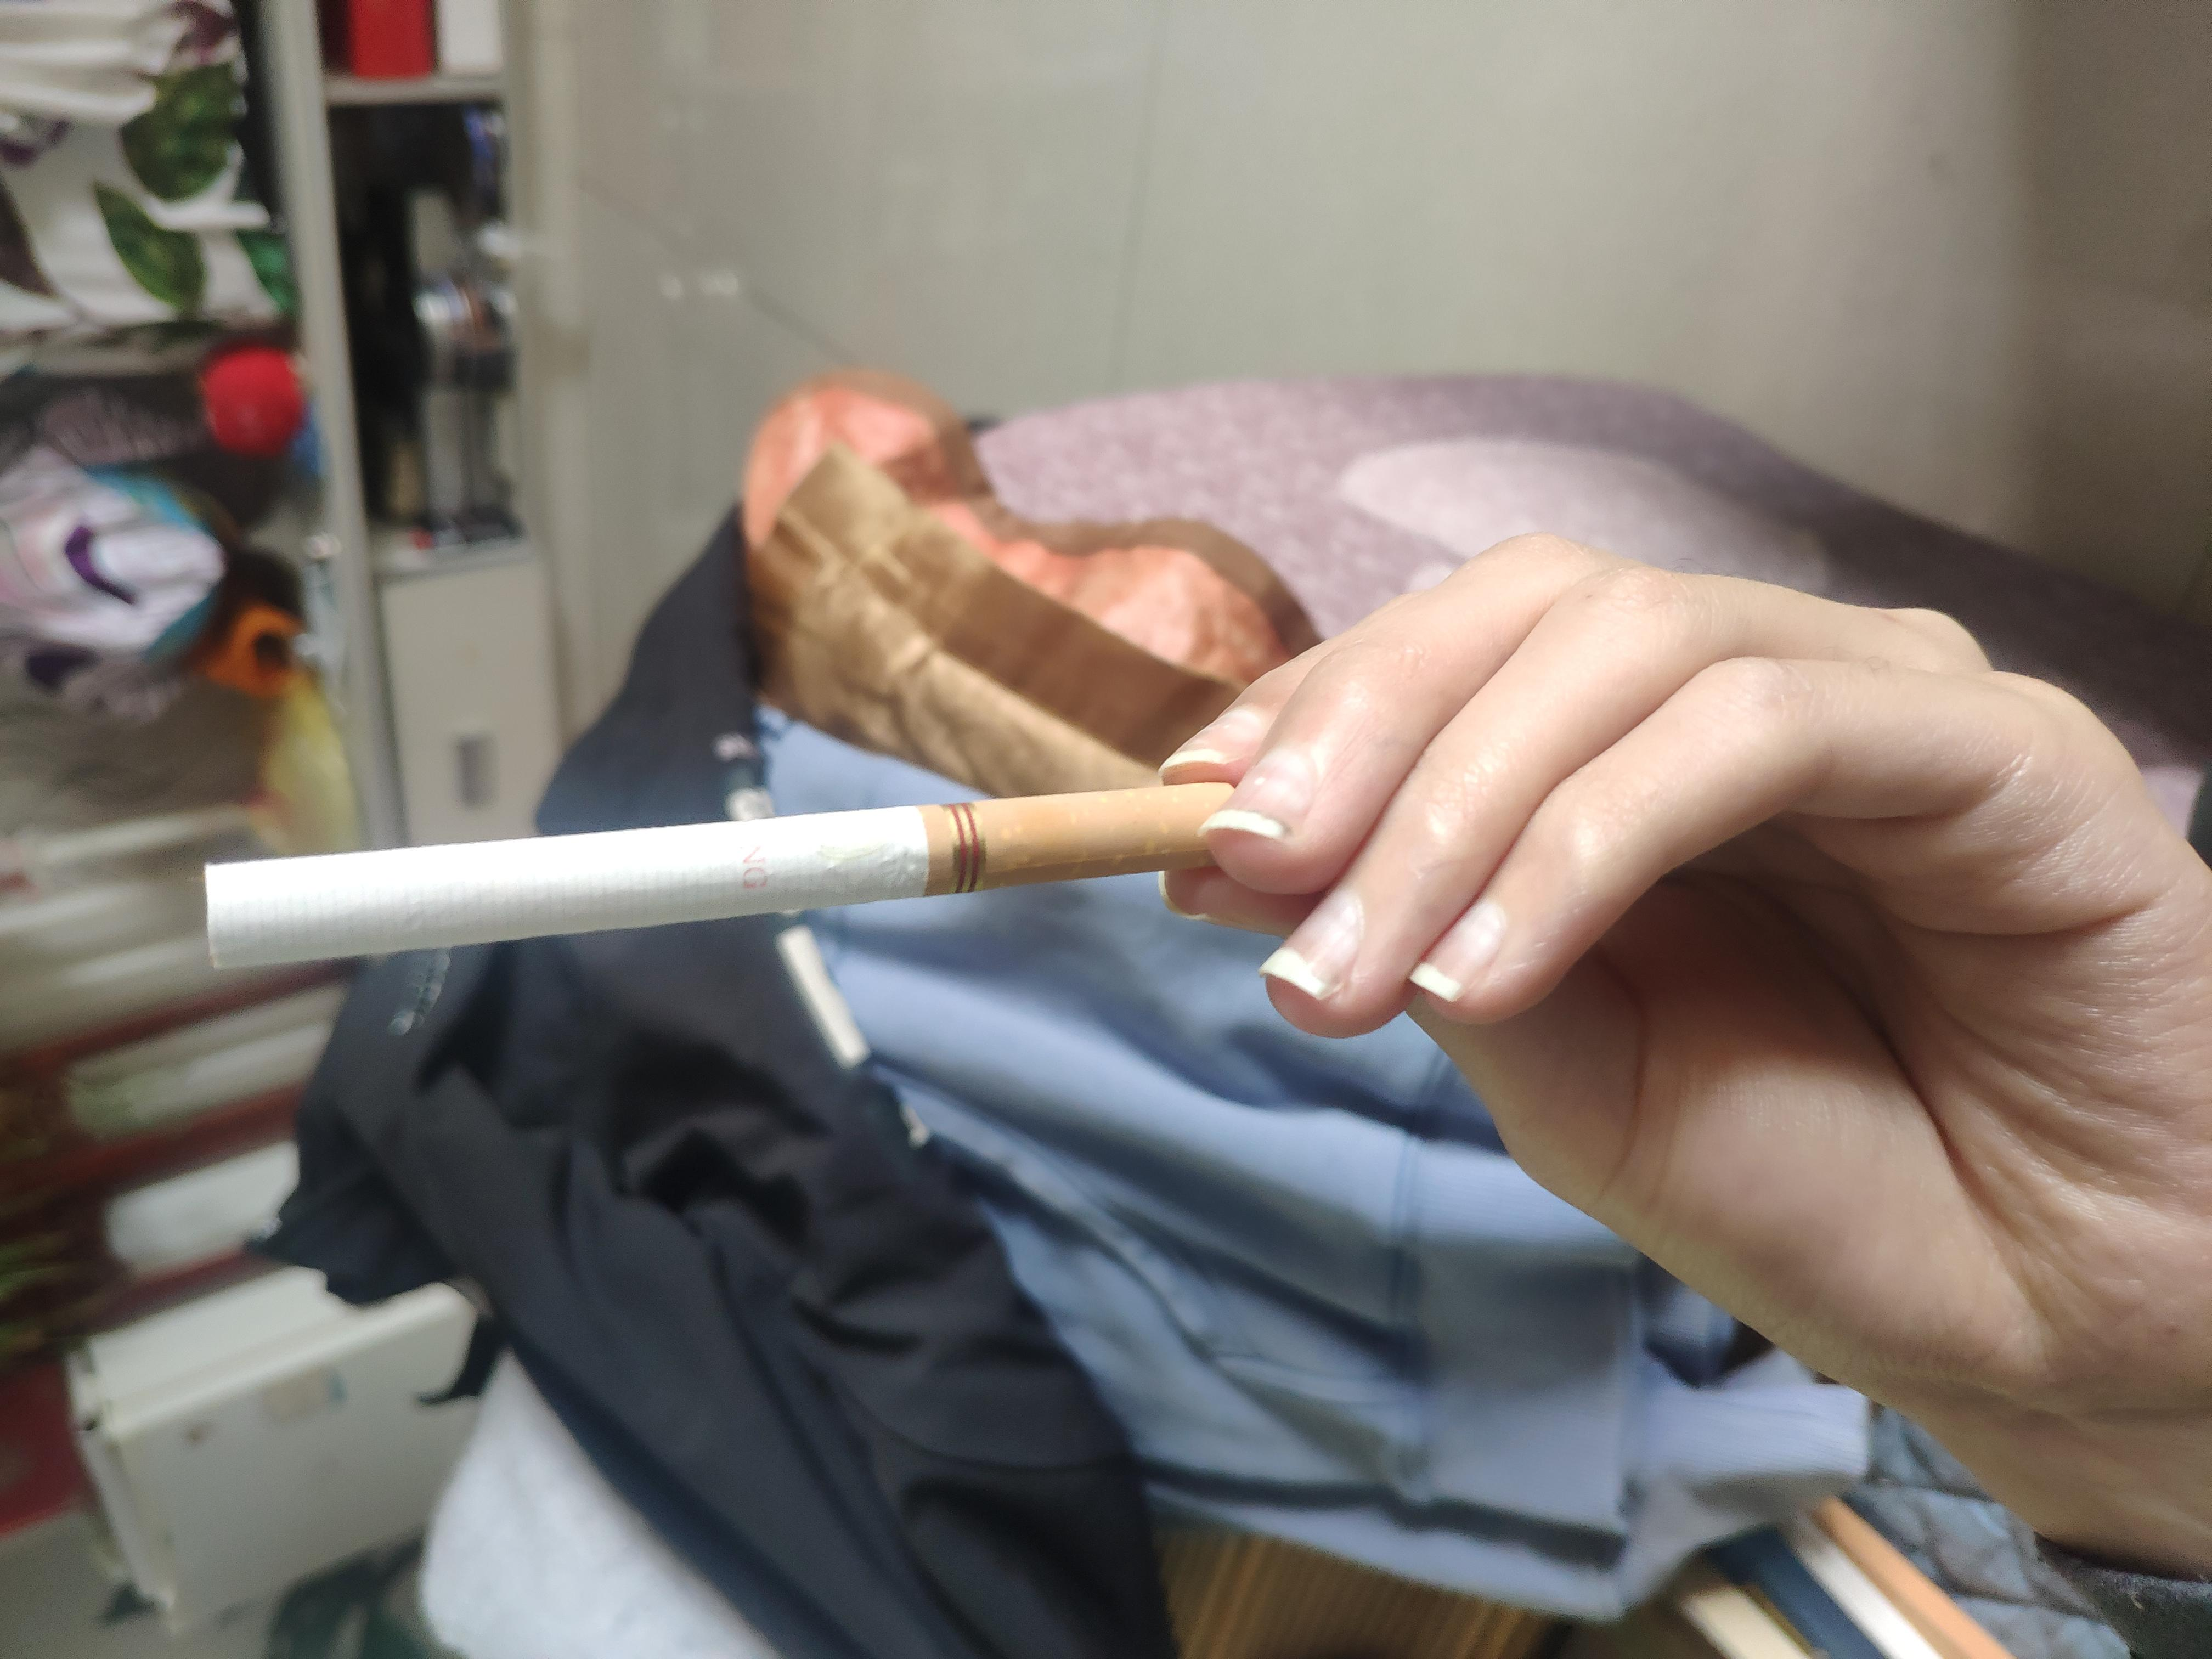smoke: (916, 155, 1174, 927)
